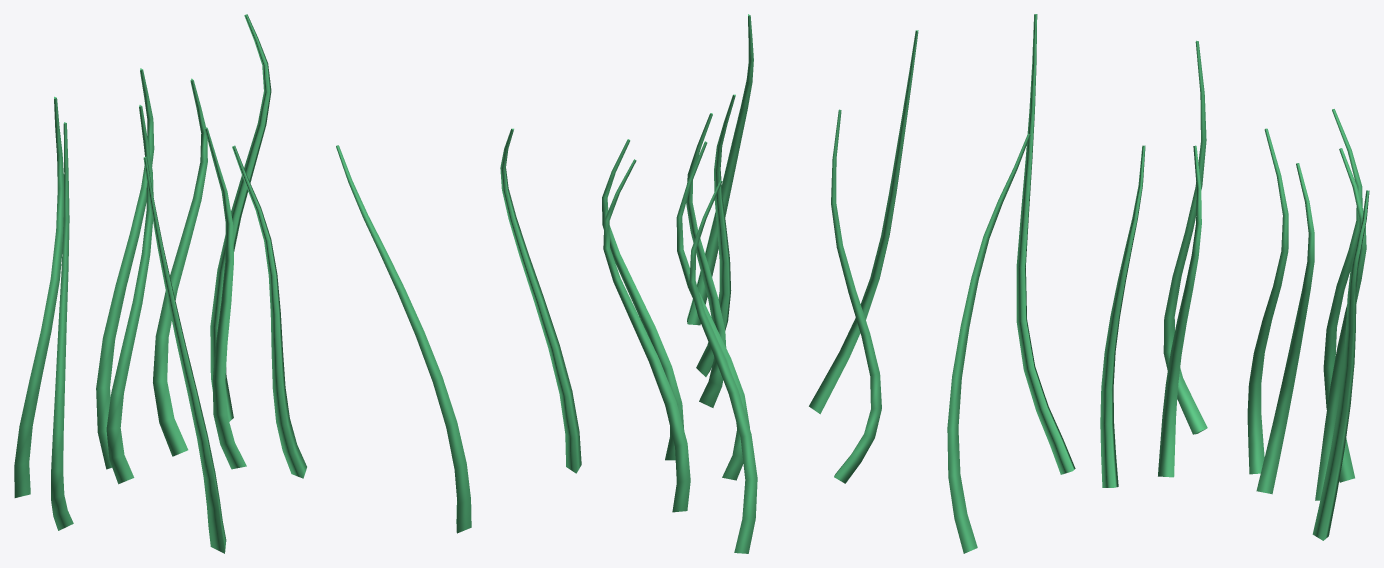
File: grass.fbx
The picture shows the model from 3 angles, left to right: view 1: azimuth 30°, elevation 25°; view 2: azimuth 150°, elevation 25°; view 3: azimuth 270°, elevation 25°; orthographic projection. The views are drawn at different scales.
Parts seen in each view (by area): view 1: Plane; view 2: Plane; view 3: Plane.
Part boxes in pixels (left/top/right/bottom): Plane: left=14, top=14, right=471, bottom=553; Plane: left=500, top=14, right=918, bottom=553; Plane: left=947, top=14, right=1369, bottom=553.
Bounding box in the file's own units: 91.84 × 128 × 109.
